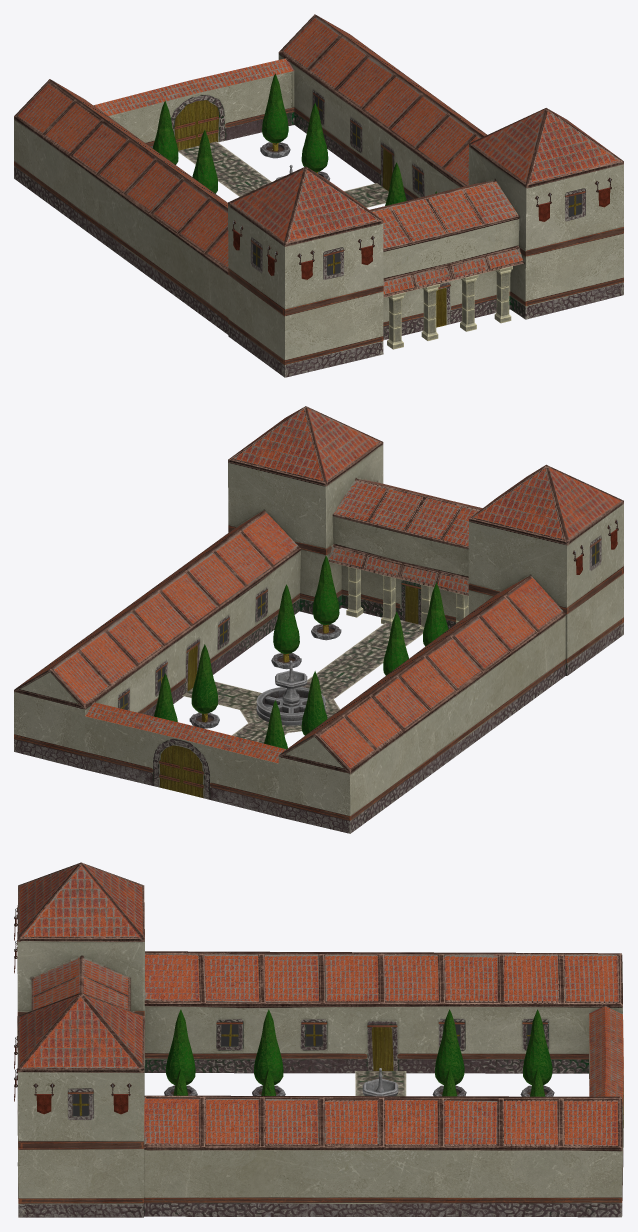
Rendered from villa4.fbx.
The picture shows the model from 3 angles, top to bottom: view 1: azimuth 30°, elevation 25°; view 2: azimuth 150°, elevation 25°; view 3: azimuth 270°, elevation 25°; orthographic projection. The views are drawn at different scales.
Size of the model in its own units: 1150 by 573 by 1590.
Materials: 6 (6 with a texture image).
